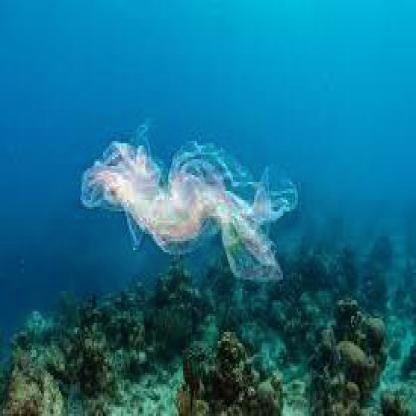pbag: (79, 121, 301, 284)
